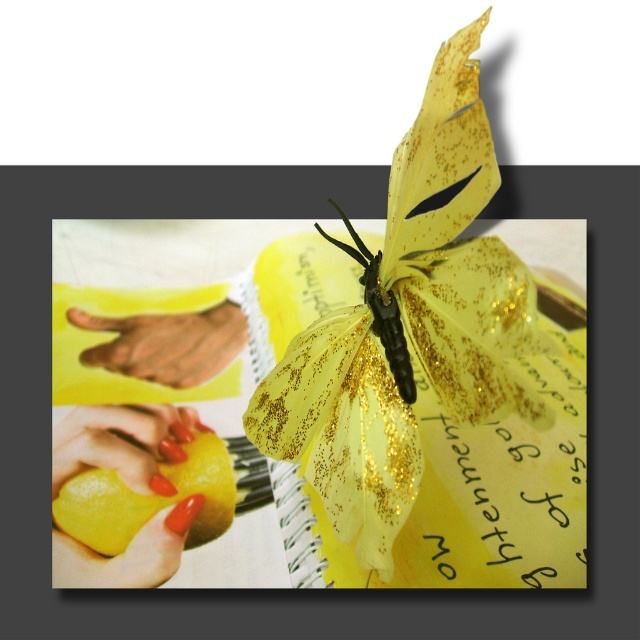Butterfly: (271, 118, 570, 519)
